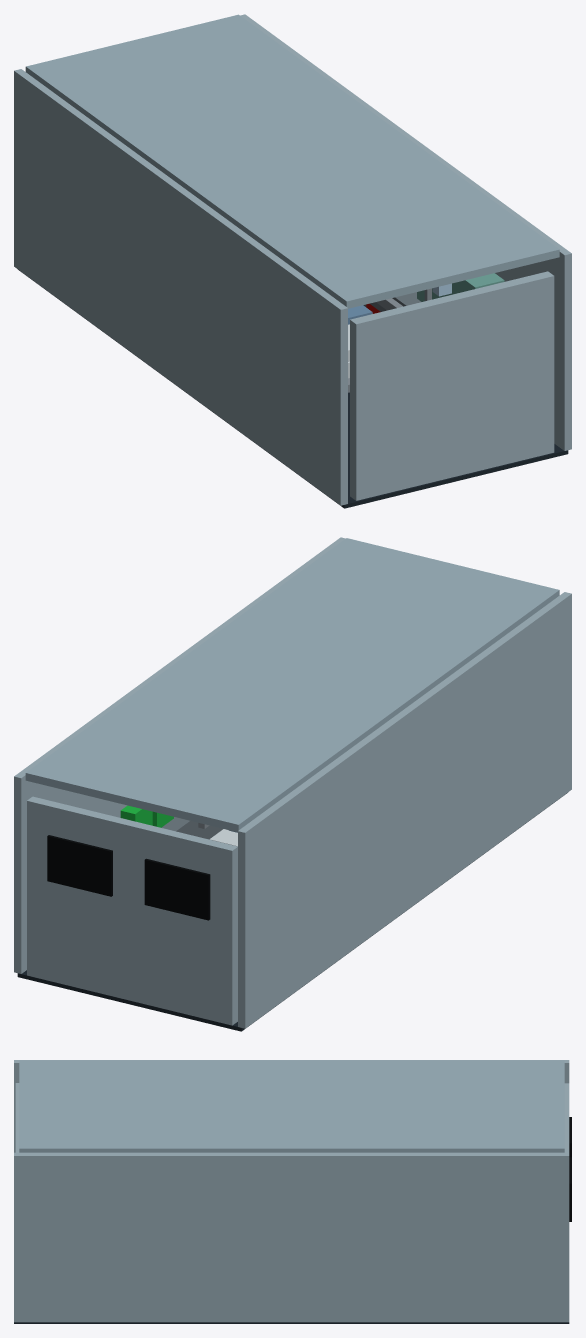
The model's file is ambulance_clean_interior.obj.
The picture shows the model from 3 angles, top to bottom: view 1: azimuth 30°, elevation 25°; view 2: azimuth 150°, elevation 25°; view 3: azimuth 270°, elevation 25°; orthographic projection. The views are drawn at different scales.
Parts seen in each view (by area): view 1: ceiling_soft_panel, left_wall_clean, front_partition, right_wall_clean, floor_blue_rubber, right_head_cabinet; view 2: ceiling_soft_panel, left_wall_clean, rear_double_doors, right_wall_clean, rear_left_window, rear_right_window, floor_blue_rubber, right_side_bench; view 3: right_wall_clean, ceiling_soft_panel, floor_blue_rubber, left_wall_clean, rear_double_doors, front_partition.
Part boxes in pixels (x1,y1,x2,y2): ceiling_soft_panel: [25, 14, 559, 308]; left_wall_clean: [14, 69, 347, 505]; front_partition: [350, 271, 554, 500]; right_wall_clean: [240, 14, 571, 450]; floor_blue_rubber: [19, 270, 568, 508]; right_head_cabinet: [417, 273, 504, 301]; ceiling_soft_panel: [25, 538, 559, 832]; left_wall_clean: [238, 592, 571, 1028]; rear_double_doors: [27, 796, 237, 1025]; right_wall_clean: [14, 537, 345, 973]; rear_left_window: [144, 858, 210, 920]; rear_right_window: [47, 835, 112, 896]; floor_blue_rubber: [17, 793, 566, 1031]; right_side_bench: [161, 817, 222, 839]; right_wall_clean: [14, 1152, 569, 1322]; ceiling_soft_panel: [19, 1060, 564, 1152]; floor_blue_rubber: [14, 1322, 569, 1323]; left_wall_clean: [14, 1060, 569, 1152]; rear_double_doors: [564, 1083, 569, 1152]; front_partition: [15, 1083, 19, 1152].
Bounding box in the file's own units: 2.52 × 2.12 × 6.2.
